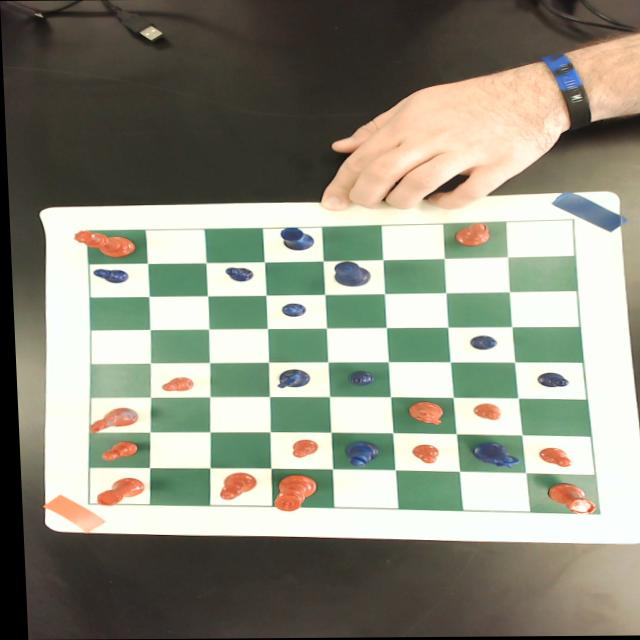B: (339, 441, 376, 467)
K: (330, 261, 369, 287)
N: (458, 439, 517, 469), (272, 368, 311, 390)
P: (89, 268, 126, 283), (533, 372, 565, 388), (343, 370, 372, 386), (221, 267, 251, 281), (467, 335, 495, 350), (278, 302, 304, 316)
R: (278, 227, 314, 251)
b: (214, 472, 252, 499), (453, 222, 489, 246)
cb: (84, 220, 596, 514)
k: (268, 473, 313, 512)
n: (81, 406, 136, 434), (404, 401, 440, 425)
p: (96, 440, 137, 461), (533, 447, 568, 467), (406, 444, 437, 464), (157, 375, 191, 392), (468, 403, 498, 421), (286, 439, 315, 457)
q: (70, 229, 135, 258)
r: (542, 482, 594, 516), (90, 477, 144, 506)
